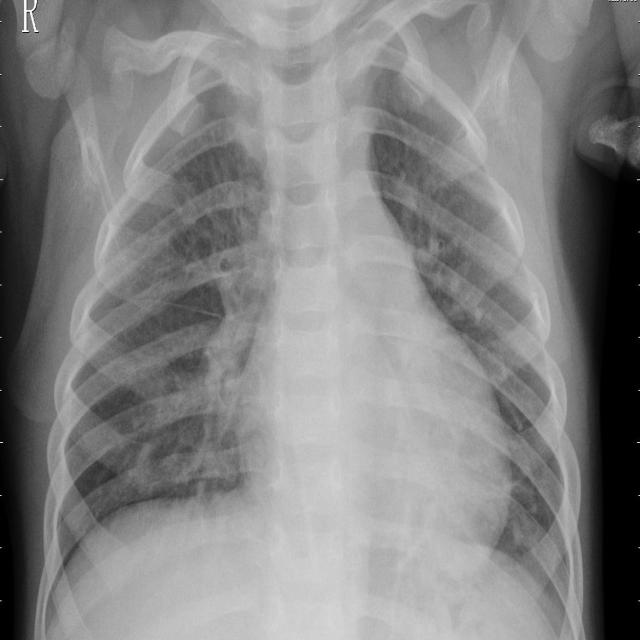high-pneumonia: (197, 26, 270, 162)
low-pneumonia: (199, 212, 272, 441)
